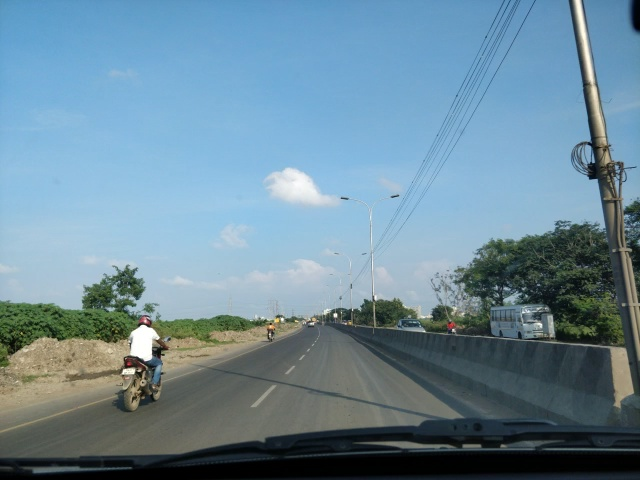bus: (488, 302, 559, 342)
car: (392, 316, 428, 344), (307, 320, 316, 329)
motorbike: (110, 314, 172, 412), (442, 317, 462, 347), (262, 319, 279, 344)
